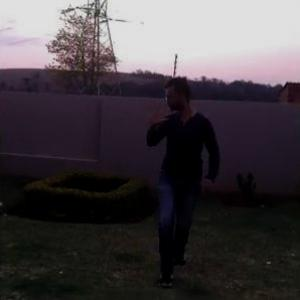follow_hand: (139, 96, 167, 128)
